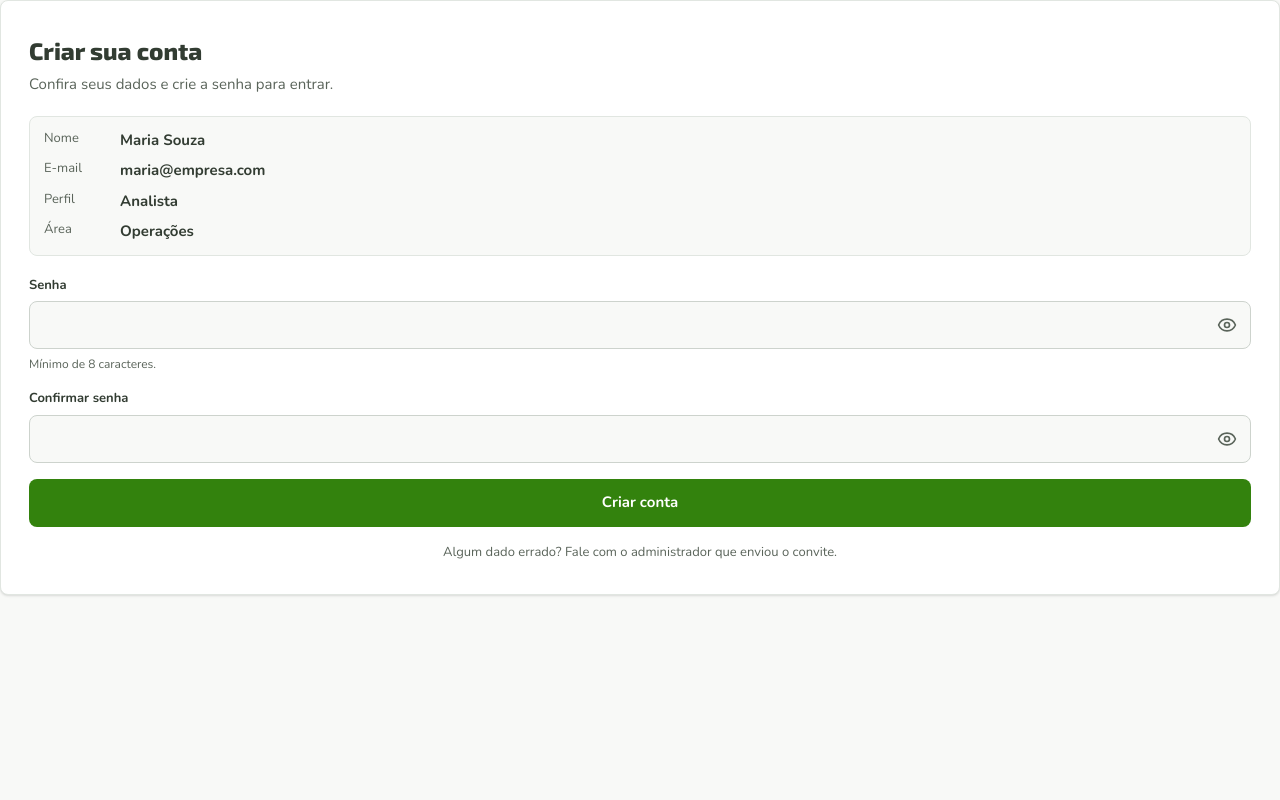
Test: AcceptInvitation › blocks a confirmation that differs
Check: the heading "Criar sua conta" is shown, box x1=29 y1=36 x2=202 y2=65
Type "secret-123" into the password field labelled "Senha" at (640, 325), box x1=29 y1=301 x2=1251 y2=349
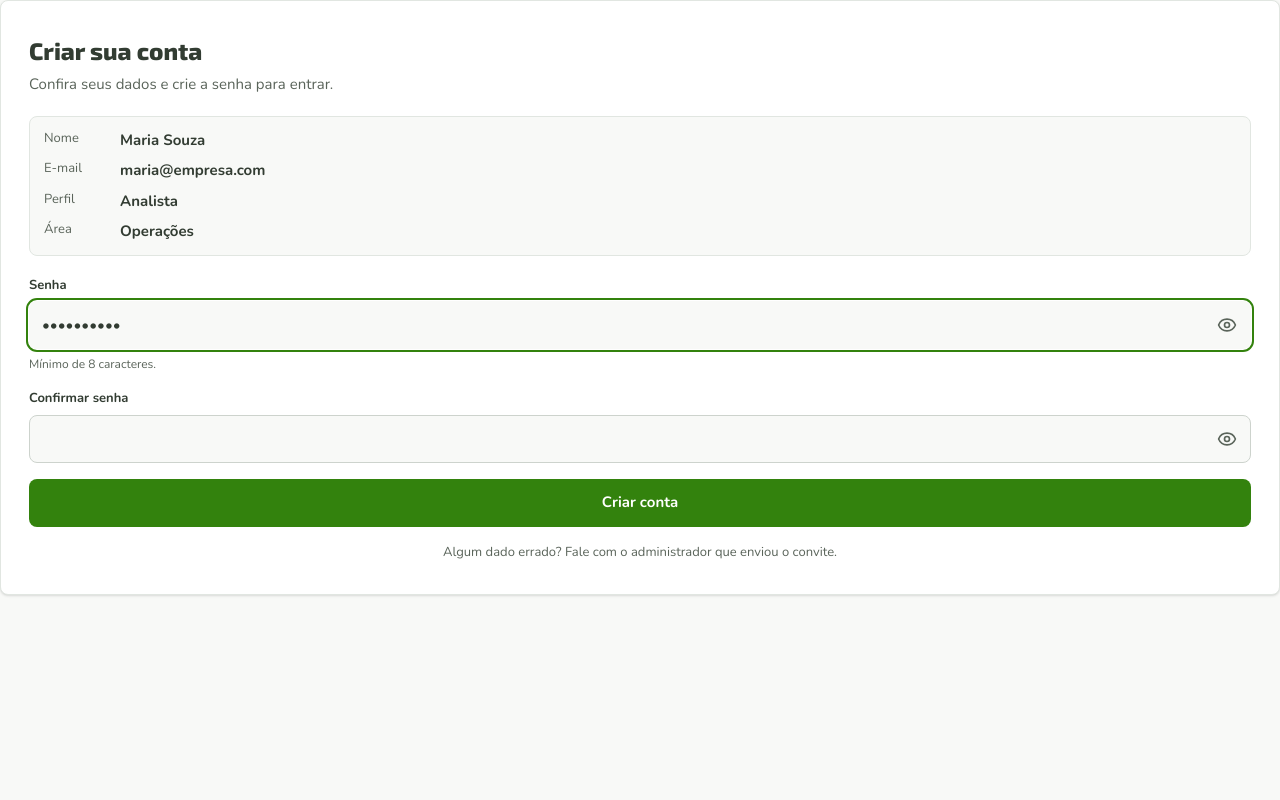
Type "secret-456" into the password field labelled "Confirmar senha" at (640, 438), box x1=29 y1=414 x2=1251 y2=462
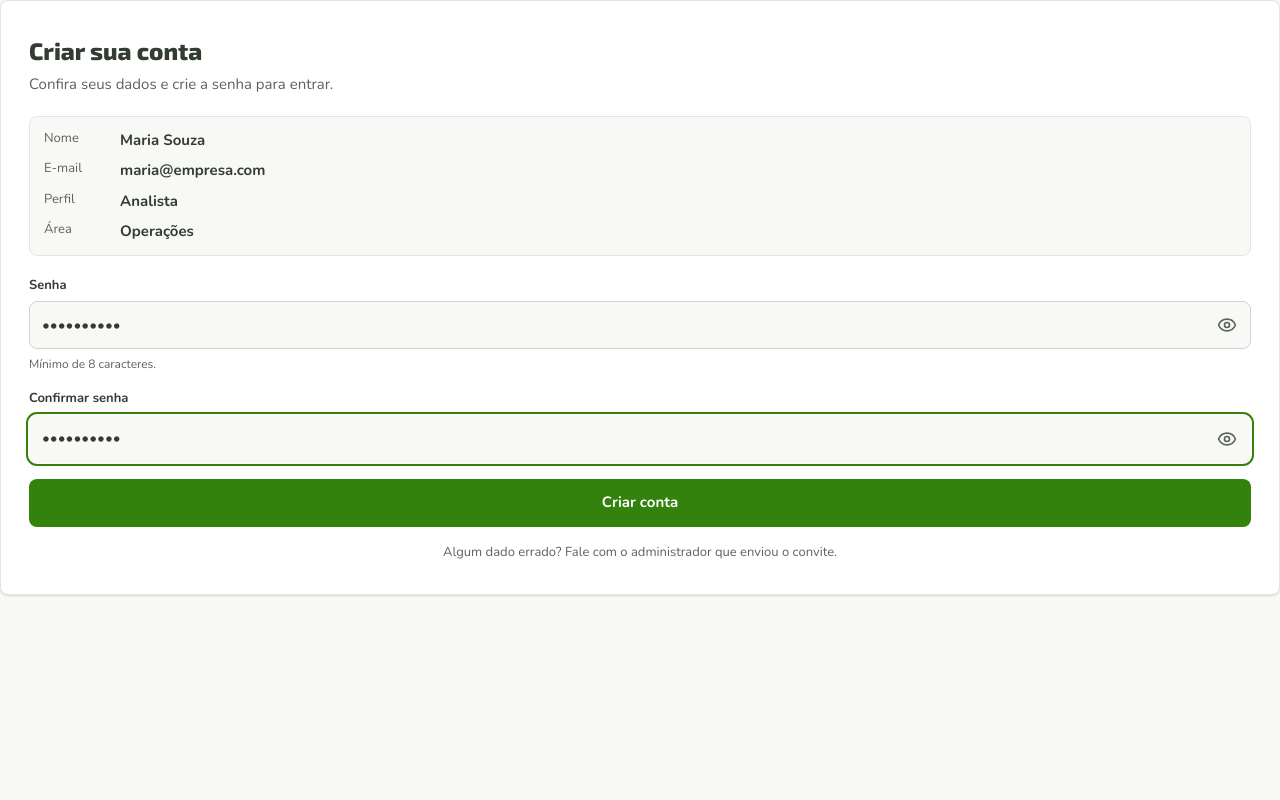
Click the button "Criar conta" at (640, 502), box x1=29 y1=478 x2=1251 y2=526
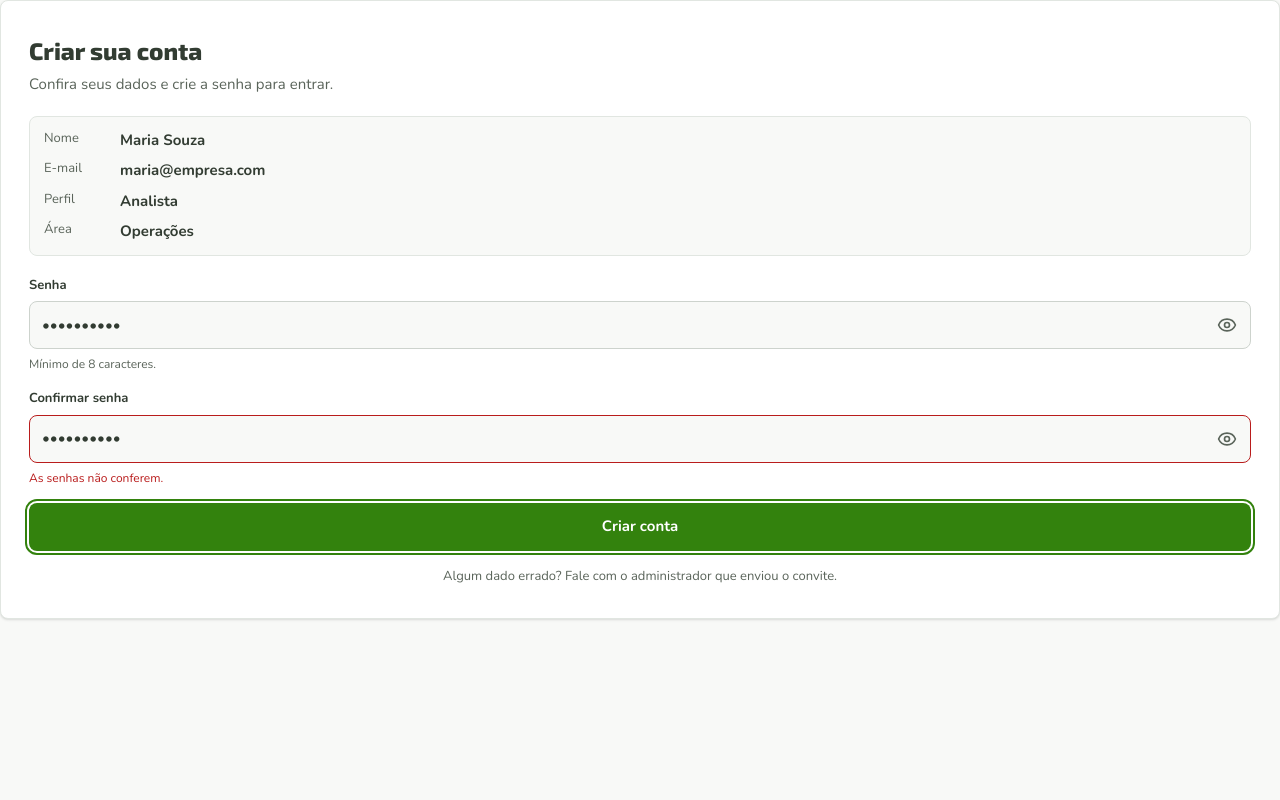
Check: the text "As senhas não conferem." is shown, box x1=29 y1=470 x2=163 y2=486
